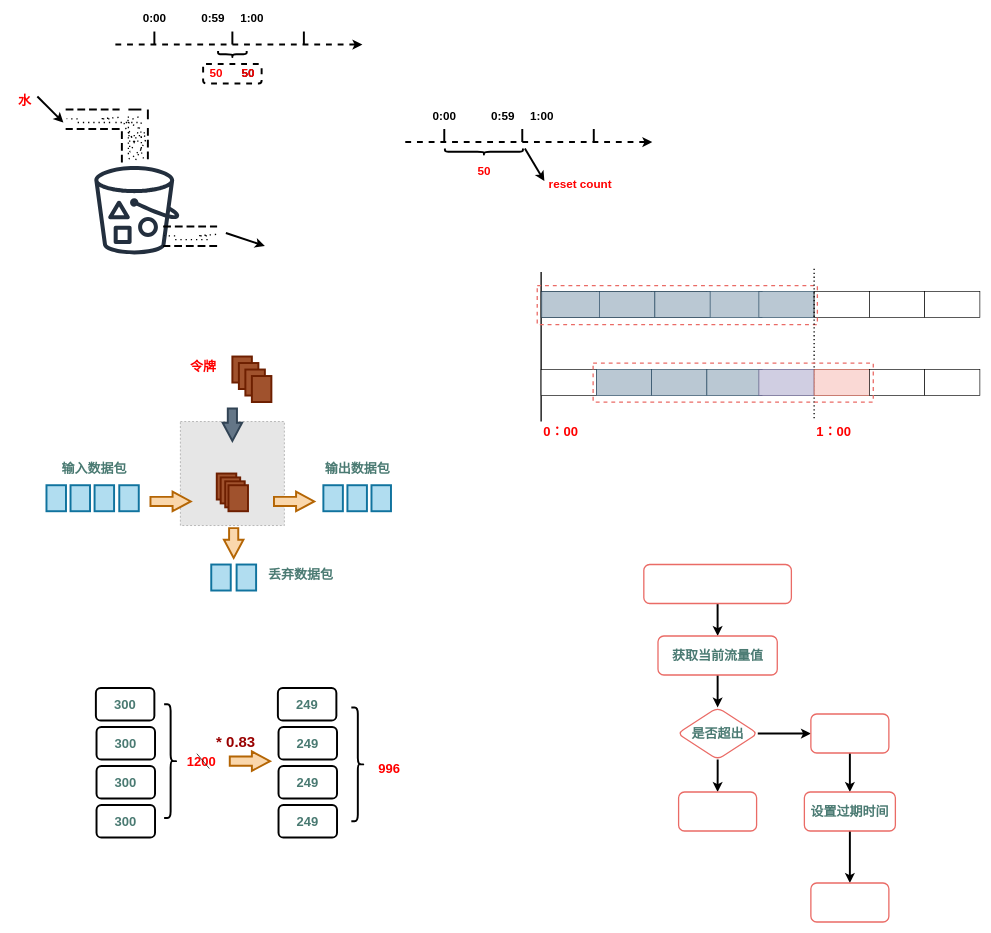
The diagram is 991 pixels wide and 933 high, and some of its shapes have lost their labels. Grey dashed boxes stand in for pictures. Here are the shapes that lost their labels. From the top down, the box of each, then its label:
(643, 564, 792, 604): 获取参数 （限流 key， 限流大小）
(810, 713, 889, 753): key 值 + 1
(678, 791, 757, 831): 拒绝
(810, 882, 889, 922): 放行
